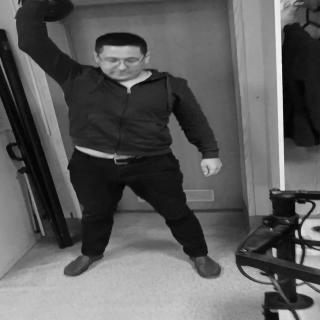kettlebell: (16, 1, 76, 25)
